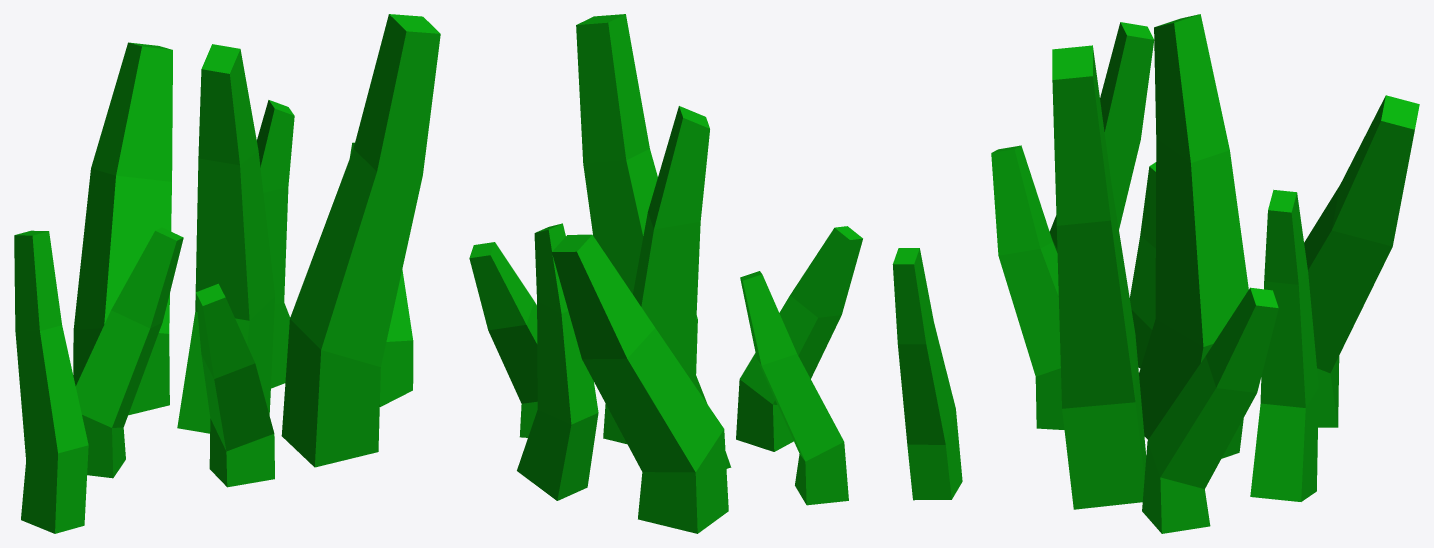
Rendered from Bush.FBX.
3 views of the same model, side by side, from view 1: azimuth 30°, elevation 25°; view 2: azimuth 150°, elevation 25°; view 3: azimuth 270°, elevation 25° (orthographic). The views are drawn at different scales.
Visible parts, largest first — view 1: Box001, 1, 2, Box002, 005, 004, 003, 006; view 2: 1, Box001, 2, 003, Box002, 005, 004, 006; view 3: Box001, 2, 1, 006, 003, 004, Box002, 005.
Boxes of the visible parts, left/top/right/bottom form: Box001: left=281, top=14, right=440, bottom=467; 1: left=73, top=42, right=172, bottom=415; 2: left=177, top=44, right=274, bottom=433; Box002: left=14, top=230, right=88, bottom=533; 005: left=75, top=227, right=183, bottom=478; 004: left=195, top=283, right=274, bottom=487; 003: left=256, top=100, right=294, bottom=388; 006: left=350, top=142, right=413, bottom=406; 1: left=552, top=234, right=728, bottom=533; Box001: left=576, top=14, right=697, bottom=443; 2: left=633, top=106, right=731, bottom=468; 003: left=517, top=223, right=598, bottom=500; Box002: left=892, top=248, right=962, bottom=500; 005: left=740, top=271, right=848, bottom=505; 004: left=736, top=226, right=862, bottom=451; 006: left=469, top=242, right=537, bottom=437; Box001: left=1052, top=45, right=1146, bottom=509; 2: left=1139, top=14, right=1248, bottom=458; 1: left=1304, top=95, right=1419, bottom=427; 006: left=1142, top=287, right=1278, bottom=533; 003: left=1250, top=189, right=1318, bottom=501; 004: left=991, top=145, right=1064, bottom=429; Box002: left=1049, top=22, right=1154, bottom=252; 005: left=1129, top=162, right=1155, bottom=368.
Bounding box in the file's own units: 13.51 × 12.63 × 10.33.
